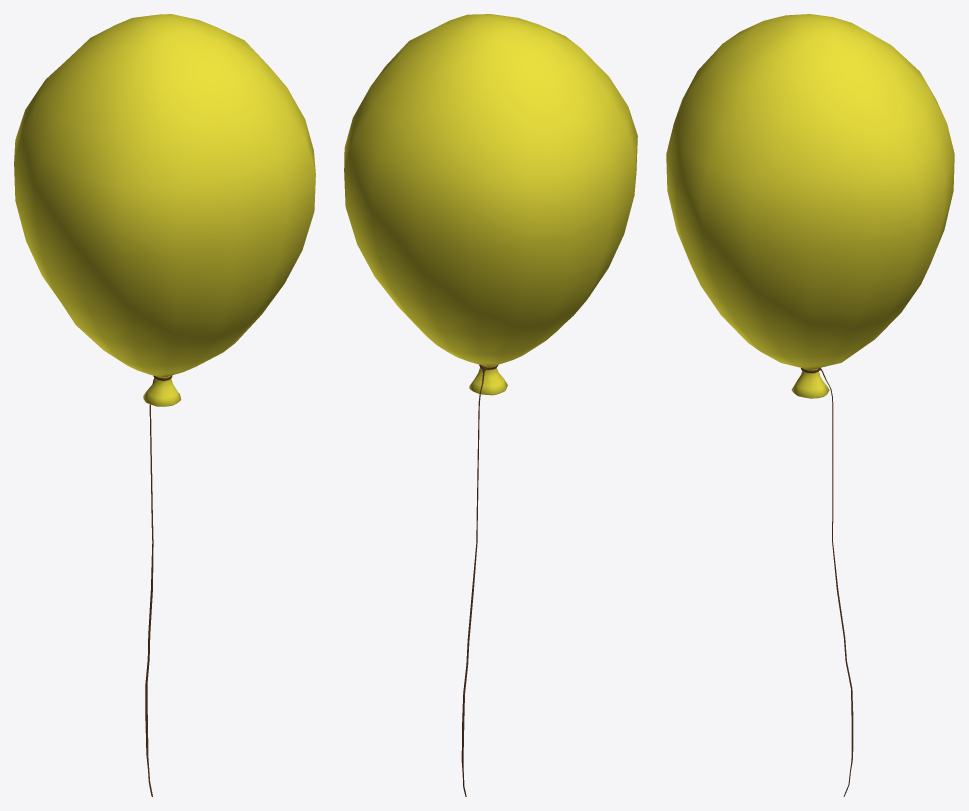
The model's file is ballons_yellow.fbx.
3 views of the same model, side by side, from view 1: azimuth 30°, elevation 25°; view 2: azimuth 150°, elevation 25°; view 3: azimuth 270°, elevation 25° (orthographic). The views are drawn at different scales.
Visible parts, largest first — view 1: Cube.004; view 2: Cube.004; view 3: Cube.004.
Part boxes in pixels (<box>): Cube.004: <box>14,14,315,796</box>; Cube.004: <box>344,14,637,796</box>; Cube.004: <box>666,14,954,796</box>.
Size of the model in its own units: 441 by 1297 by 440.
2 materials, 2 textured.
